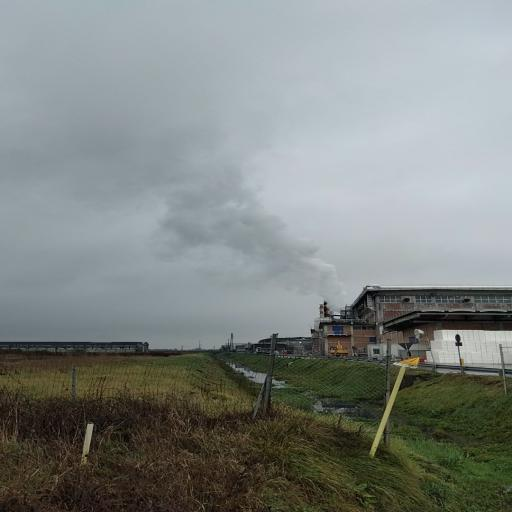leakage: (32, 99, 356, 324)
